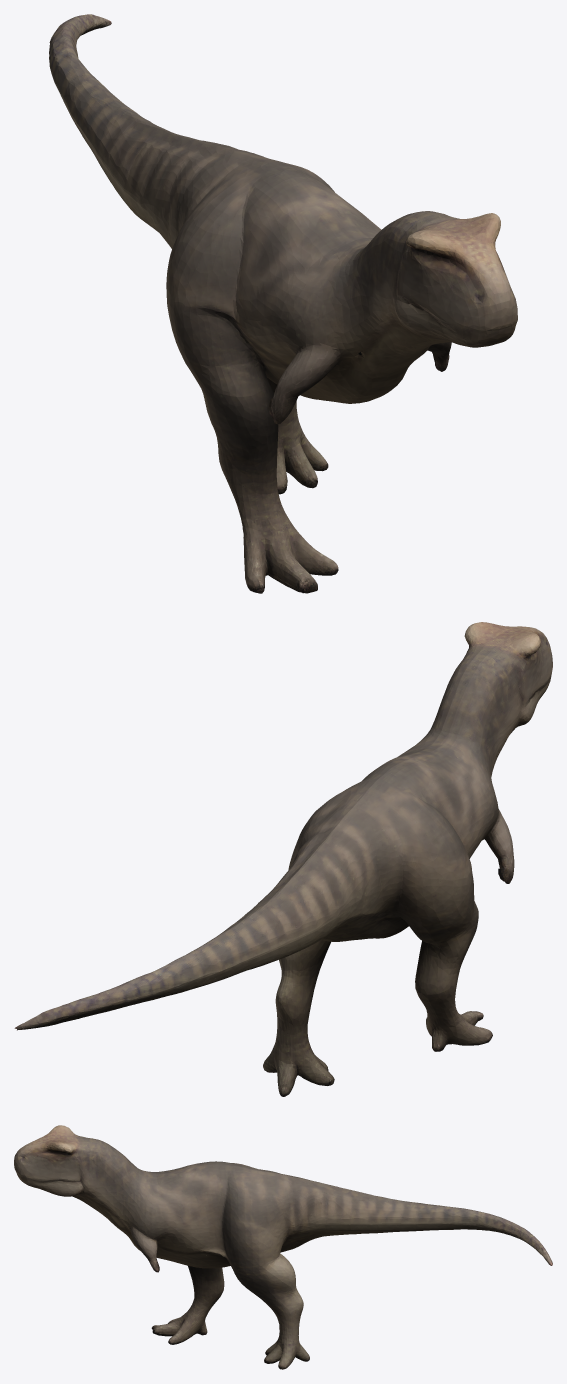
The picture shows the model from 3 angles, top to bottom: view 1: azimuth 30°, elevation 25°; view 2: azimuth 150°, elevation 25°; view 3: azimuth 270°, elevation 25°; orthographic projection. The views are drawn at different scales.
Parts seen in each view (by area): view 1: world; view 2: world; view 3: world.
Boxes of the visible parts, box(x1,y1,x2,y2) form: world: box(49, 14, 517, 593); world: box(14, 622, 552, 1096); world: box(14, 1125, 552, 1369).
Bounding box in the file's own units: 1.97 × 3.11 × 7.
1 material, 1 textured.
